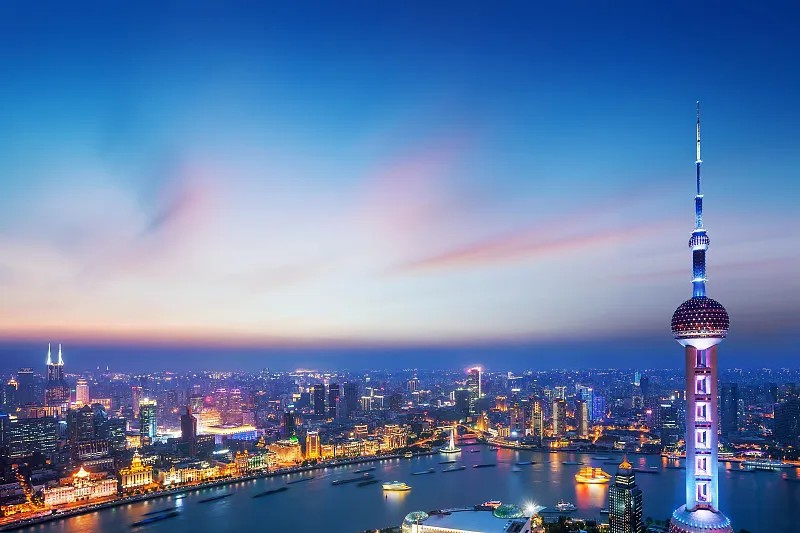Oriental: (667, 101, 732, 533)
